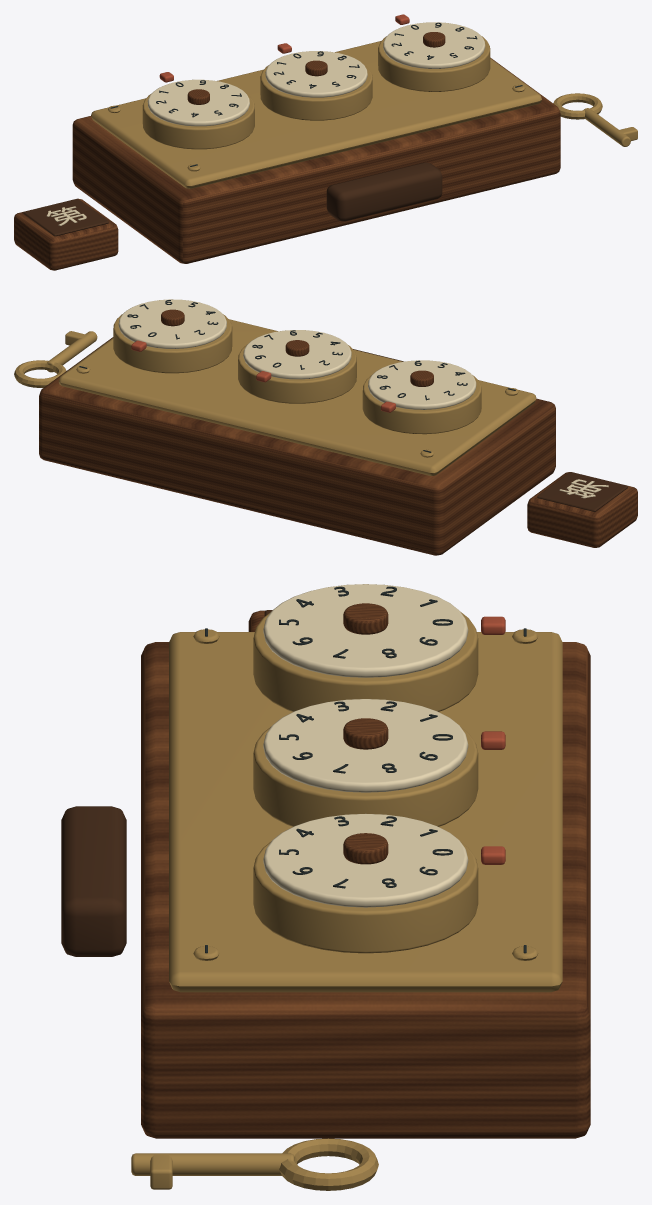
The model's file is P01_NumberLock.fbx.
3 renders of one model, top to bottom at view 1: azimuth 30°, elevation 25°; view 2: azimuth 150°, elevation 25°; view 3: azimuth 270°, elevation 25°, orthographic. The views are drawn at different scales.
Parts seen in each view (by area): view 1: Lock mounting block.001, Lock brass face.001, Catch button.001, Letter block 第.001, DigitWheel_0_Face.001, DigitWheel_1_Face.001, DigitWheel_2_Face.001, DigitWheel_1_Rim.001, DigitWheel_0_Rim.001, DigitWheel_2_Rim.001, Letter inset 第.001, Key bow.002 (+2 smaller); view 2: Lock mounting block.001, Lock brass face.001, Letter block 第.001, DigitWheel_0_Face.001, DigitWheel_2_Face.001, DigitWheel_1_Face.001, DigitWheel_2_Rim.001, DigitWheel_0_Rim.001, DigitWheel_1_Rim.001, Letter inset 第.001, Key bow.002, Key shaft.002 (+1 smaller); view 3: Lock mounting block.001, Lock brass face.001, DigitWheel_0_Face.001, DigitWheel_1_Face.001, DigitWheel_2_Face.001, DigitWheel_2_Rim.001, Catch button.001, DigitWheel_0_Rim.001, DigitWheel_1_Rim.001, Key bow.002, Key shaft.002, Dial hub.007 (+2 smaller).
Part boxes in pixels (x1,y1,x2,y2): Lock mounting block.001: (72,57,560,263); Lock brass face.001: (91,41,541,188); Catch button.001: (326,162,442,221); Letter block 第.001: (14,198,118,270); DigitWheel_0_Face.001: (147,79,249,126); DigitWheel_1_Face.001: (265,51,367,97); DigitWheel_2_Face.001: (383,22,485,68); DigitWheel_1_Rim.001: (260,65,372,120); DigitWheel_0_Rim.001: (142,93,254,149); DigitWheel_2_Rim.001: (378,36,490,91); Letter inset 第.001: (23,199,108,236); Key bow.002: (553,93,602,119); Lock mounting block.001: (39,337,555,555); Lock brass face.001: (58,319,536,475); Letter block 第.001: (527,472,637,547); DigitWheel_0_Face.001: (368,360,476,409); DigitWheel_2_Face.001: (118,299,226,348); DigitWheel_1_Face.001: (243,330,351,379); DigitWheel_2_Rim.001: (113,314,232,373); DigitWheel_0_Rim.001: (362,375,481,434); DigitWheel_1_Rim.001: (238,344,356,403); Letter inset 第.001: (537,472,627,511); Key bow.002: (14,360,66,387); Key shaft.002: (47,331,97,372); Lock mounting block.001: (141,642,590,1138); Lock brass face.001: (169,632,562,992); DigitWheel_0_Face.001: (263,584,468,677); DigitWheel_1_Face.001: (263,699,468,792); DigitWheel_2_Face.001: (263,813,468,907); DigitWheel_2_Rim.001: (253,841,478,953); Catch button.001: (61,806,126,956); DigitWheel_0_Rim.001: (253,611,478,711); DigitWheel_1_Rim.001: (253,726,478,826); Key bow.002: (279,1138,378,1190); Key shaft.002: (131,1153,294,1175); Dial hub.007: (343,603,388,634).
Bounding box in the file's own units: 0.6995 × 0.1365 × 0.2825.
Materials: 6 (1 with a texture image).
